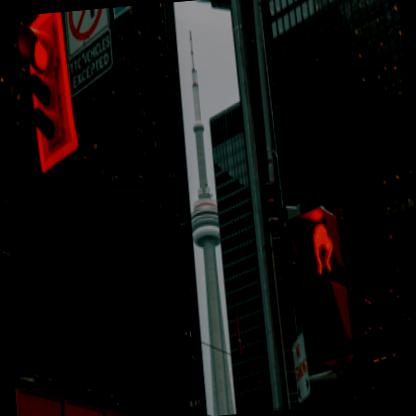trafficlight: (282, 198, 360, 370), (14, 11, 82, 174)
